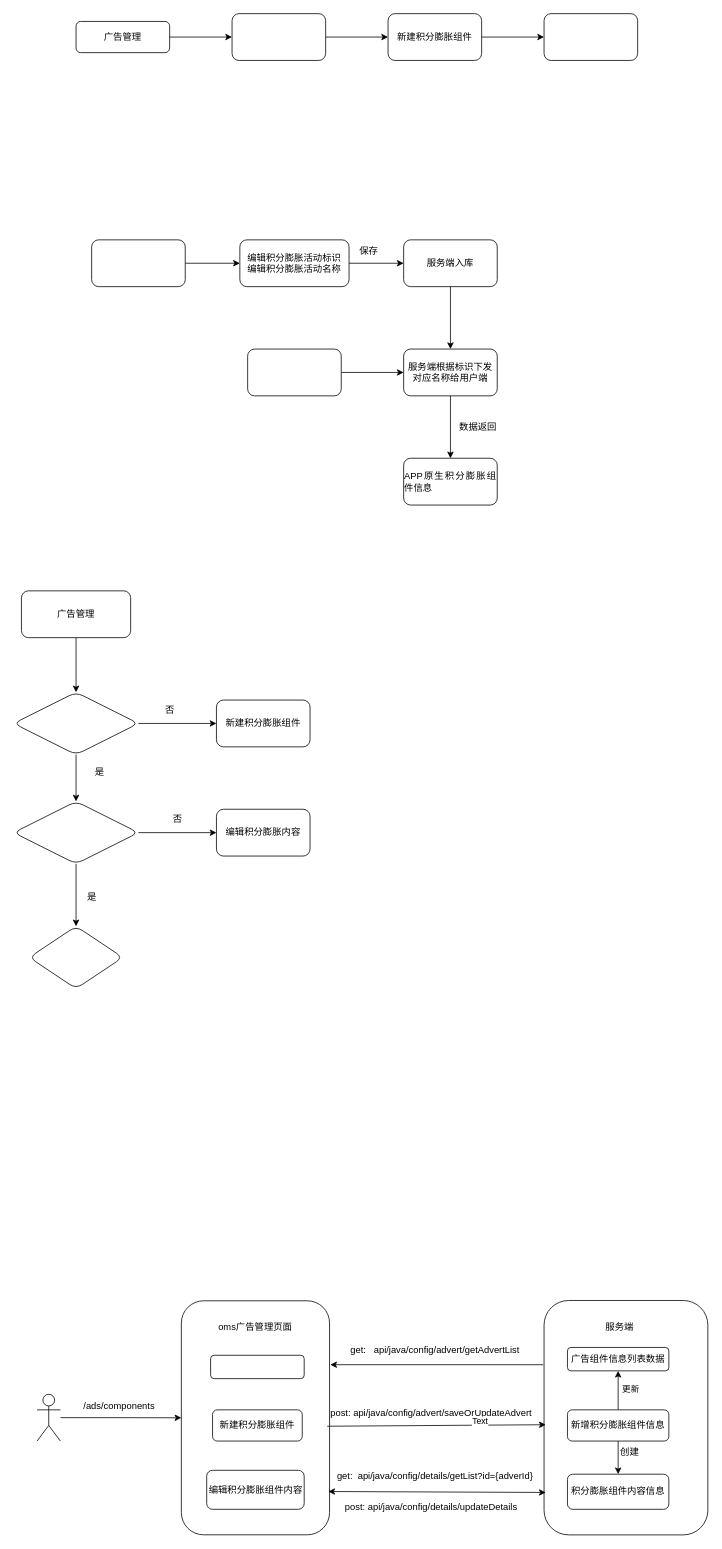
This 722x1549 diagram has some shape labels left out. Each missing label, with the centre of its shape:
Actor: the point at 48,1417
APP用活动标识请求信息: the point at 294,372
广告管理创建积分膨胀组件信息: the point at 138,263
广告组件信息列表: the point at 257,1366
新建组件: the point at 278,36
是否新增积分膨胀组件: the point at 75,723
是否编辑积分膨胀组件内容: the point at 75,832
